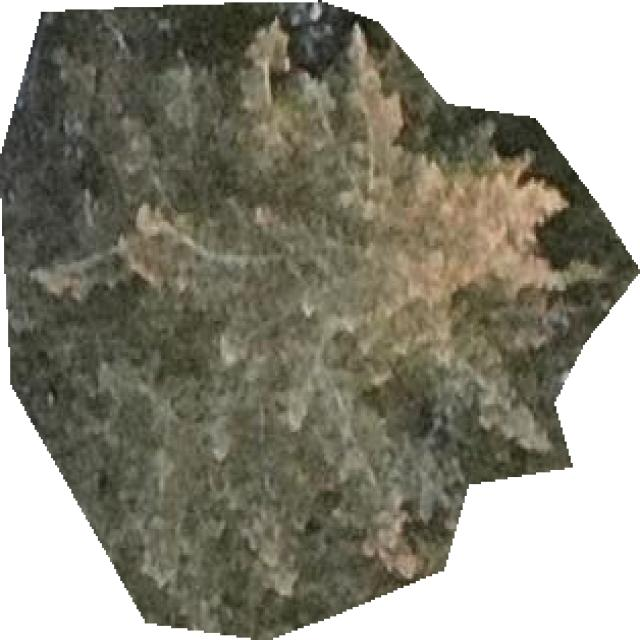spruce: (0, 2, 634, 638)
